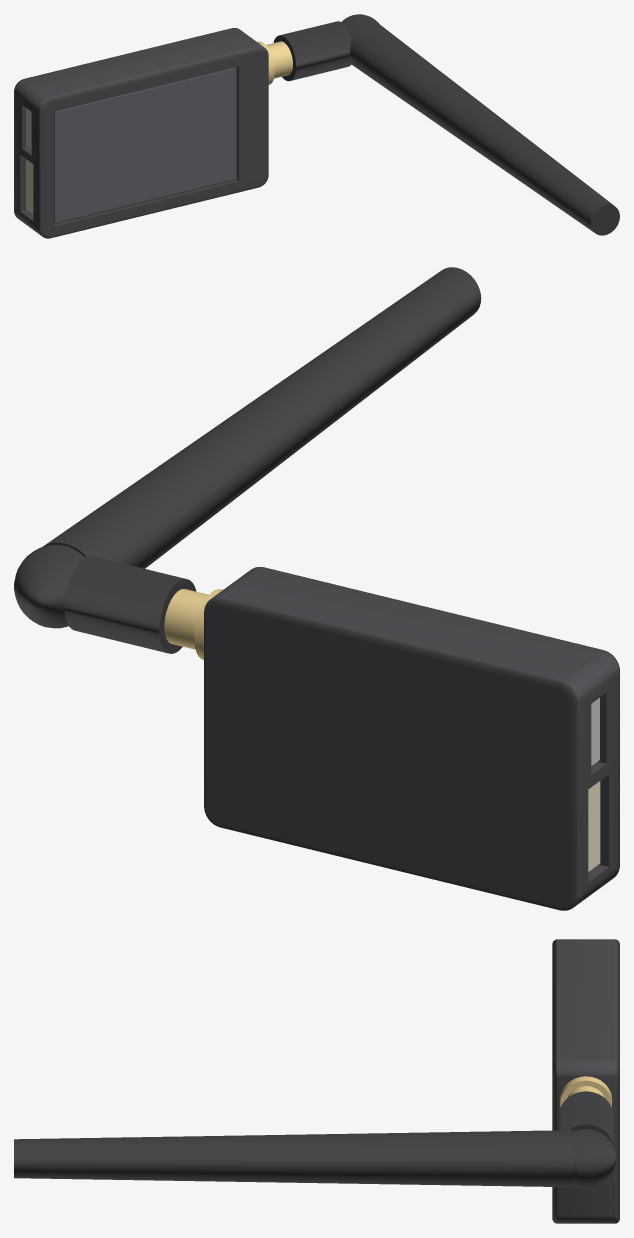
File: telemetry.glb
The picture shows the model from 3 angles, top to bottom: view 1: azimuth 30°, elevation 25°; view 2: azimuth 150°, elevation 25°; view 3: azimuth 270°, elevation 25°; orthographic projection. The views are drawn at different scales.
Visible parts, largest first — view 1: c_111114, c_1e1e23, antenna, gold, c_e0c699; view 2: c_111114, antenna, gold, c_e0c699; view 3: antenna, c_111114, gold.
Part boxes in pixels (x1,y1,x2,y2): c_111114: (14,28,268,238); c_1e1e23: (54,68,235,222); antenna: (273,14,619,235); gold: (257,41,292,84); c_e0c699: (26,159,33,214); c_111114: (204,567,619,910); antenna: (14,267,481,653); gold: (164,589,222,659); c_e0c699: (588,781,600,871); antenna: (14,1091,615,1188); c_111114: (552,939,619,1223); gold: (560,1076,612,1107).
Size of the model in its own units: 0.0733 by 0.0278 by 0.0932.
